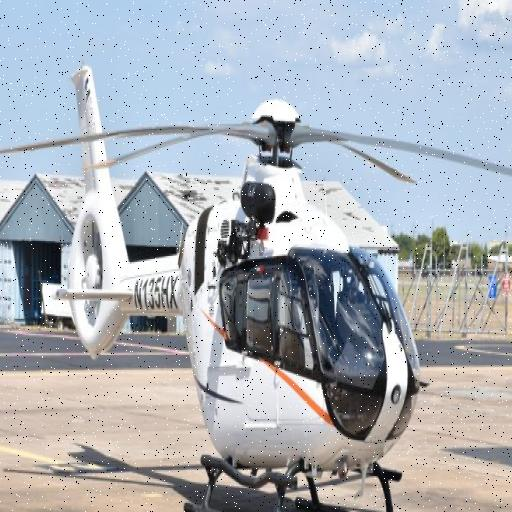helicopter: (1, 62, 512, 512)
